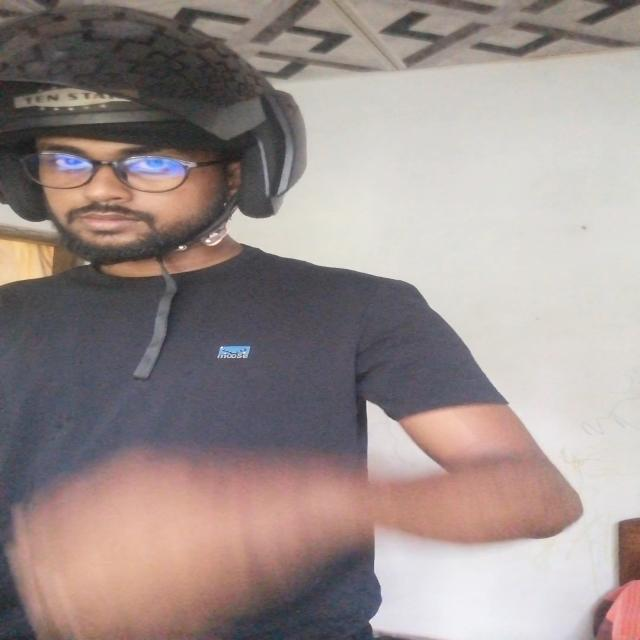Helmet_Wearer: (5, 1, 305, 323)
Person: (3, 0, 573, 640)
